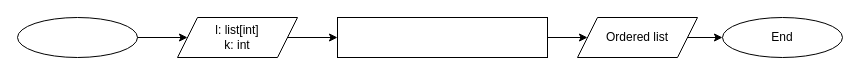
The diagram is 860 pixels wide and 75 high, and some of its shapes have lost their labels. The centre of each missing label's shape, as x and y in pixels:
"Sort the list of integer in ascending order and return the last k elements" goes at point (442, 37).
"Start" goes at point (77, 37).
